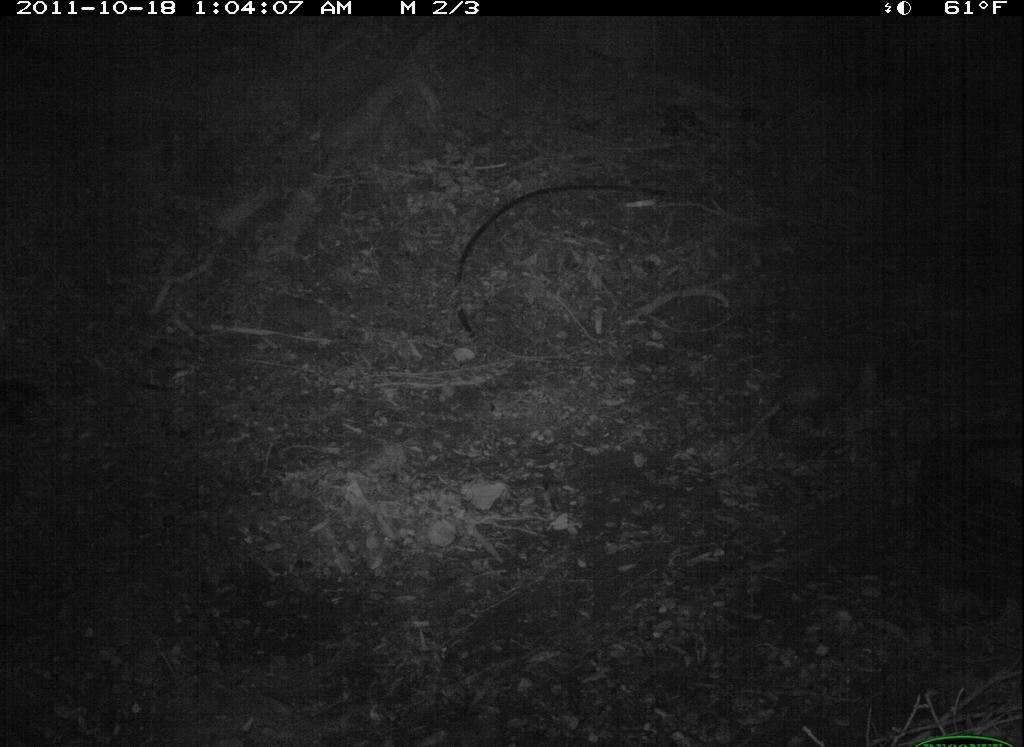opossum: (707, 341, 903, 451)
